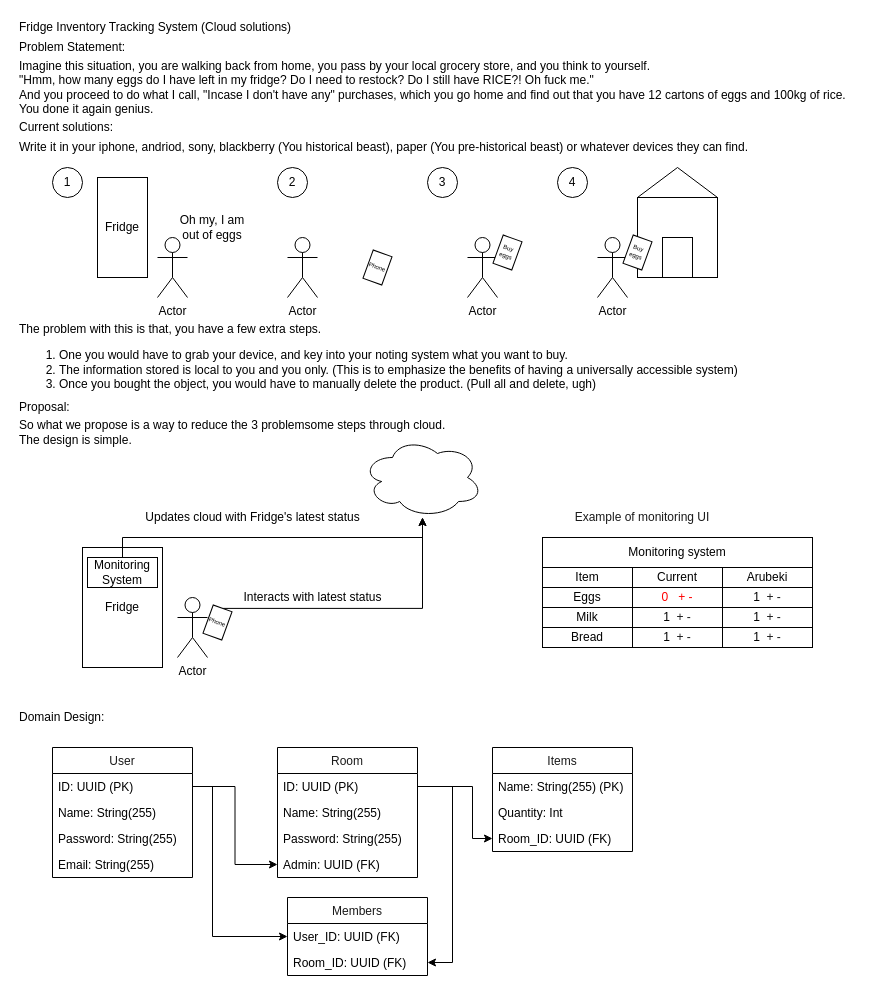
Some shapes in this 874 by 995 pixel diagram are drawn without their labels. Each missing label, with the centre of its shape:
Cloud With Fridge Information: (422,477)
Supermarket: (677,182)
